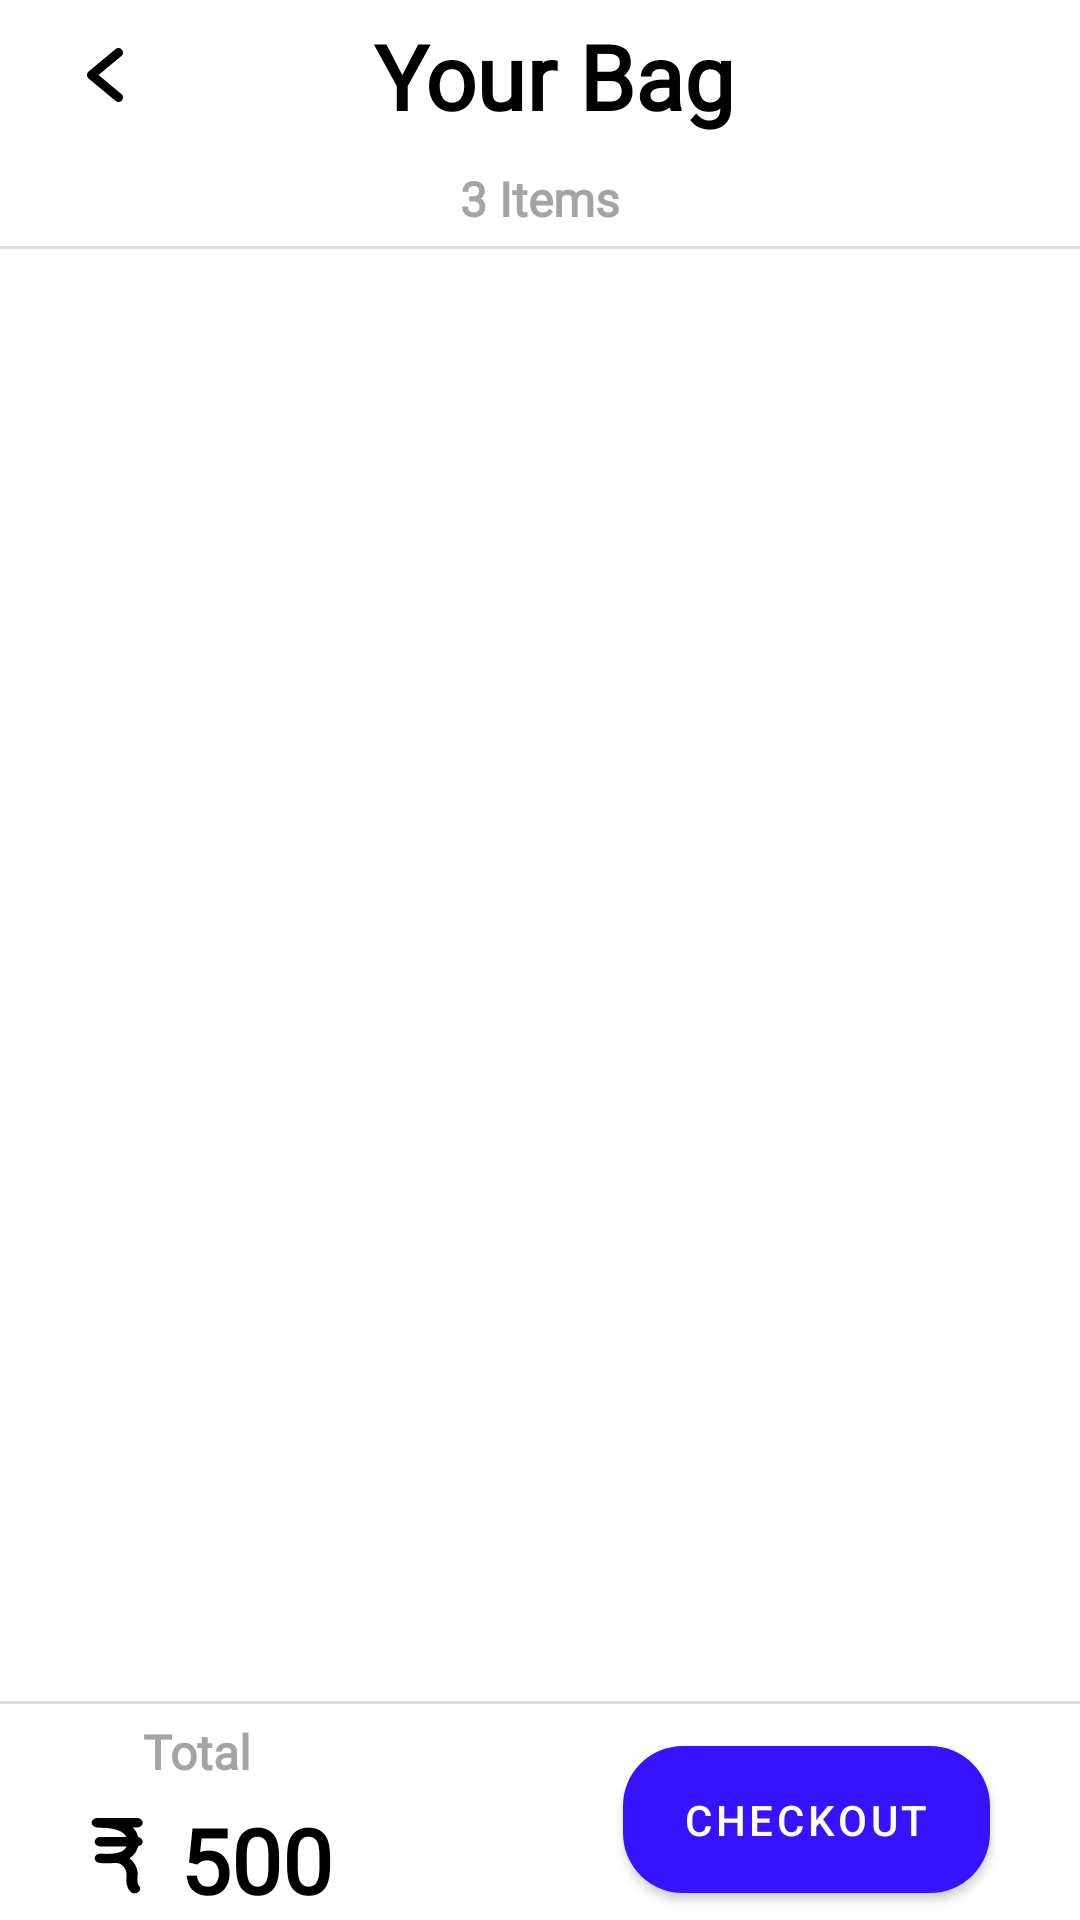

Icon click points for this 1080px×1920px phone screenshot, format [x,y]:
back: [105,75]
